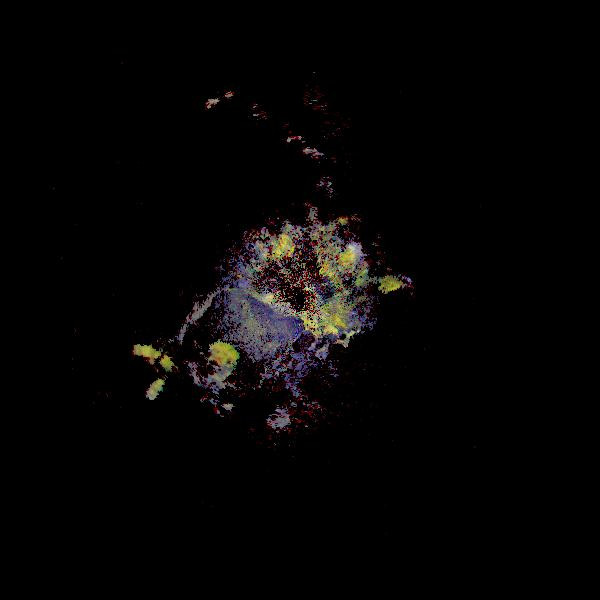roost: (112, 342, 178, 408), (175, 335, 238, 398)
